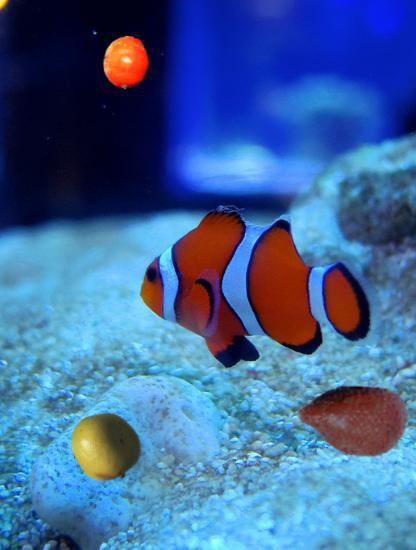Clementine: (99, 36, 153, 90)
Pomelo: (70, 410, 142, 482)
Salak: (295, 364, 409, 478)
